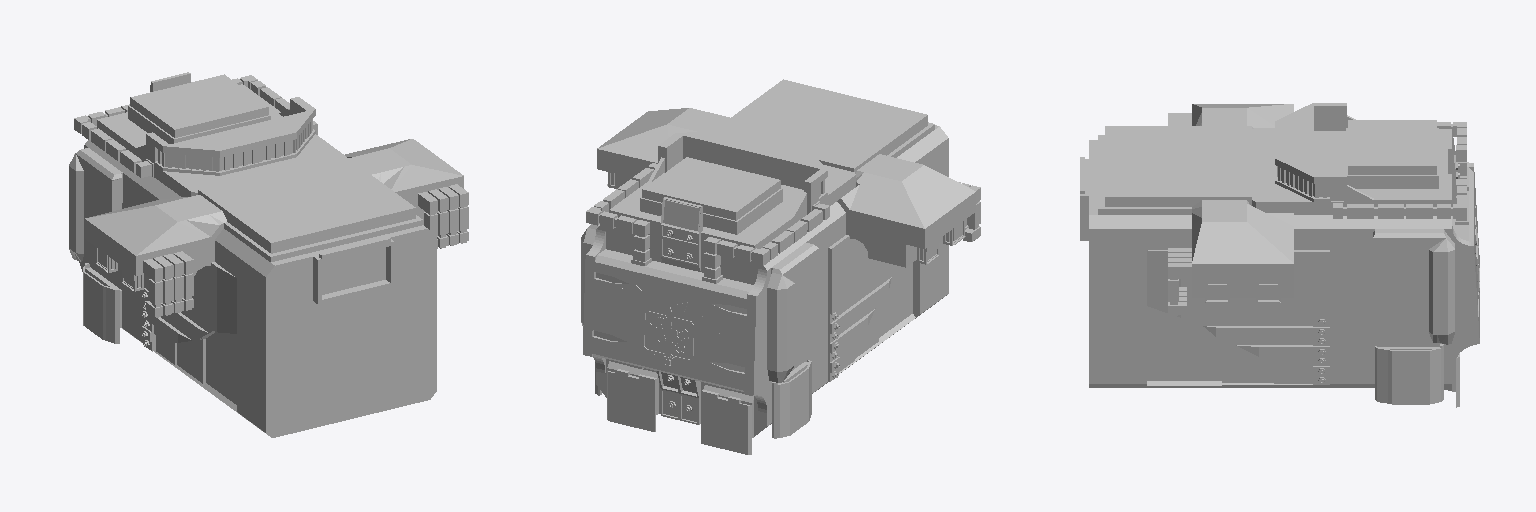
Rendered from t45body.obj.
The picture shows the model from 3 angles: view 1: azimuth 30°, elevation 25°; view 2: azimuth 150°, elevation 25°; view 3: azimuth 270°, elevation 25°; orthographic projection.
Bounding box in the file's own units: 1.92 × 1.3 × 2.03.